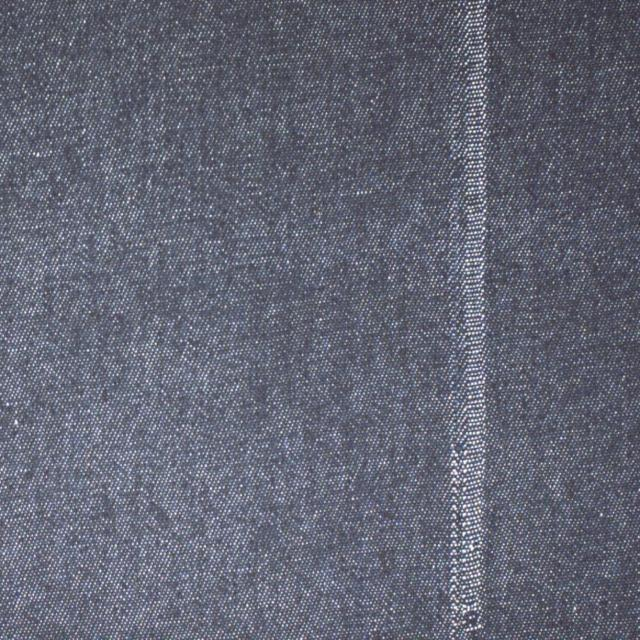Warp_Weft: (445, 0, 488, 634)
